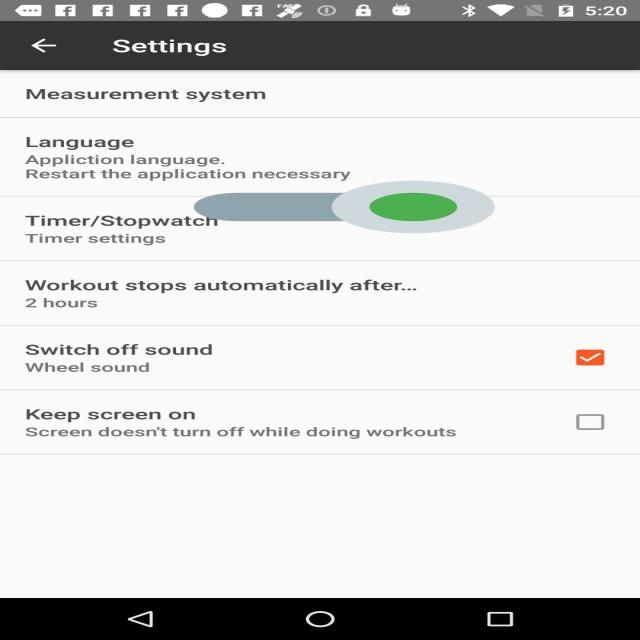social proof: (194, 158, 495, 256)
